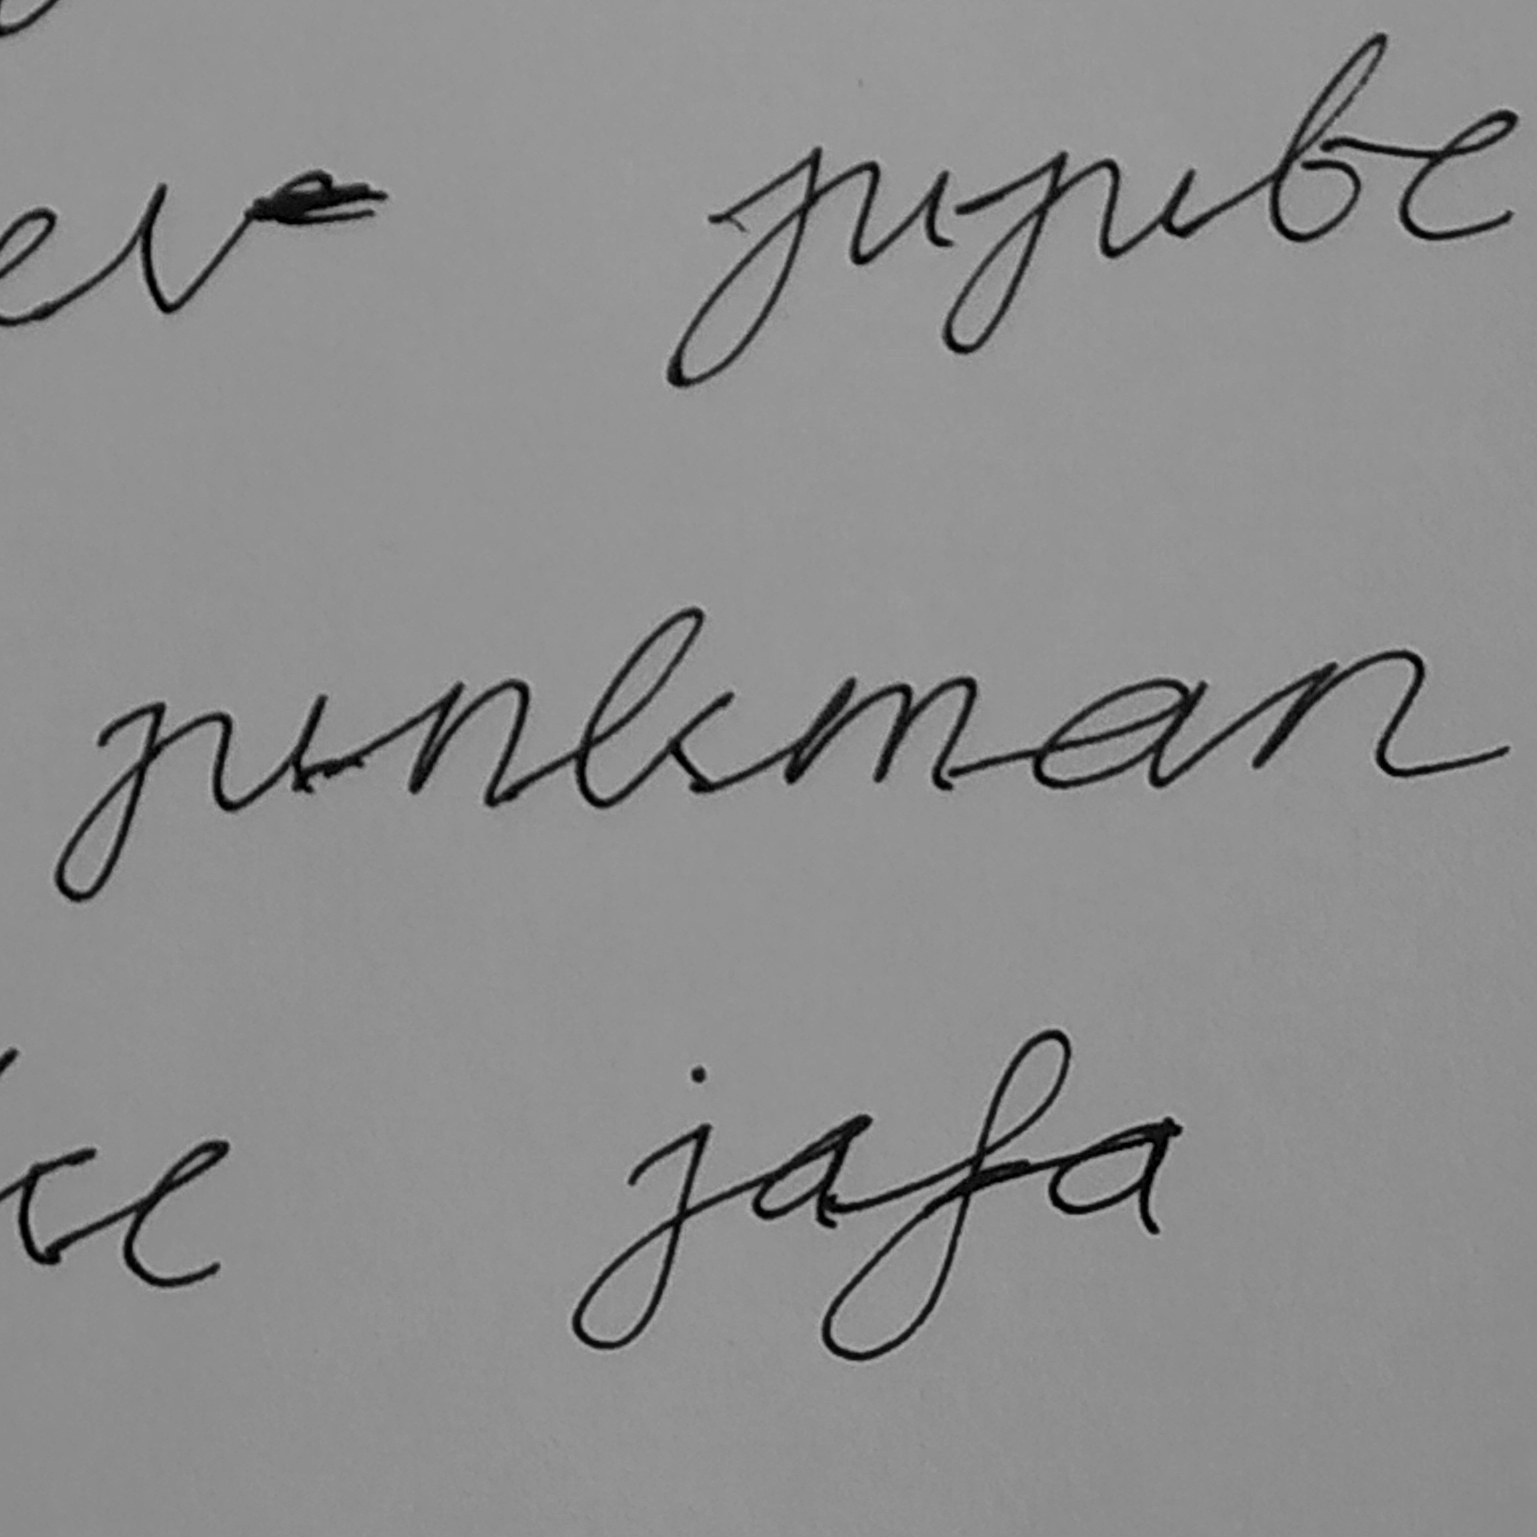a: (1025, 670, 1212, 795)
j: (51, 695, 169, 906)
k: (570, 604, 738, 814)
m: (778, 669, 980, 797)
n: (1247, 645, 1431, 783), (403, 676, 535, 814)
u: (205, 690, 334, 815)
